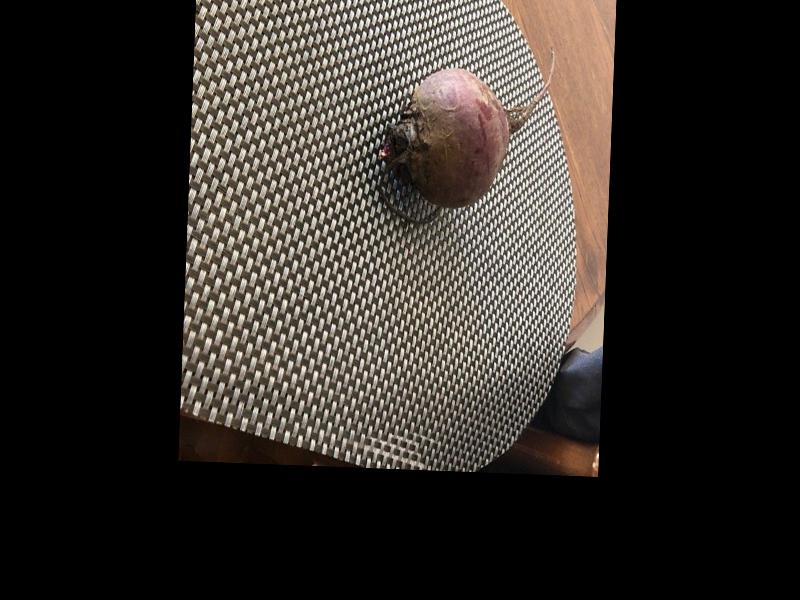Beet: (376, 42, 555, 231)
